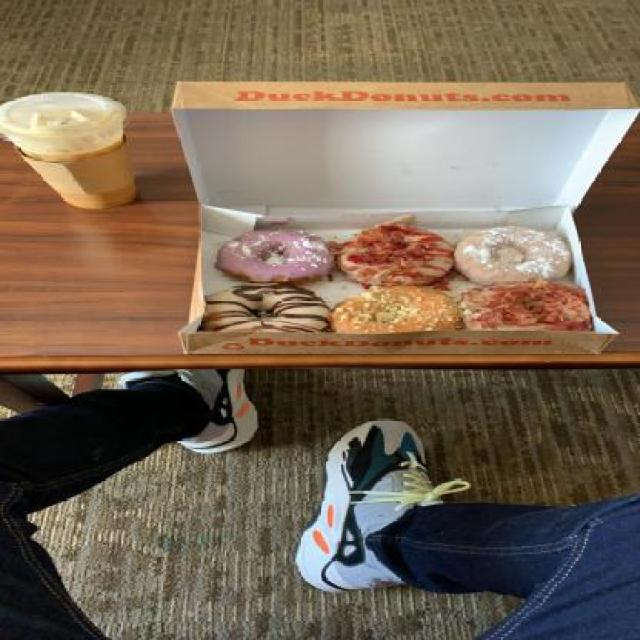shoe: (292, 417, 450, 597), (104, 371, 264, 455)
